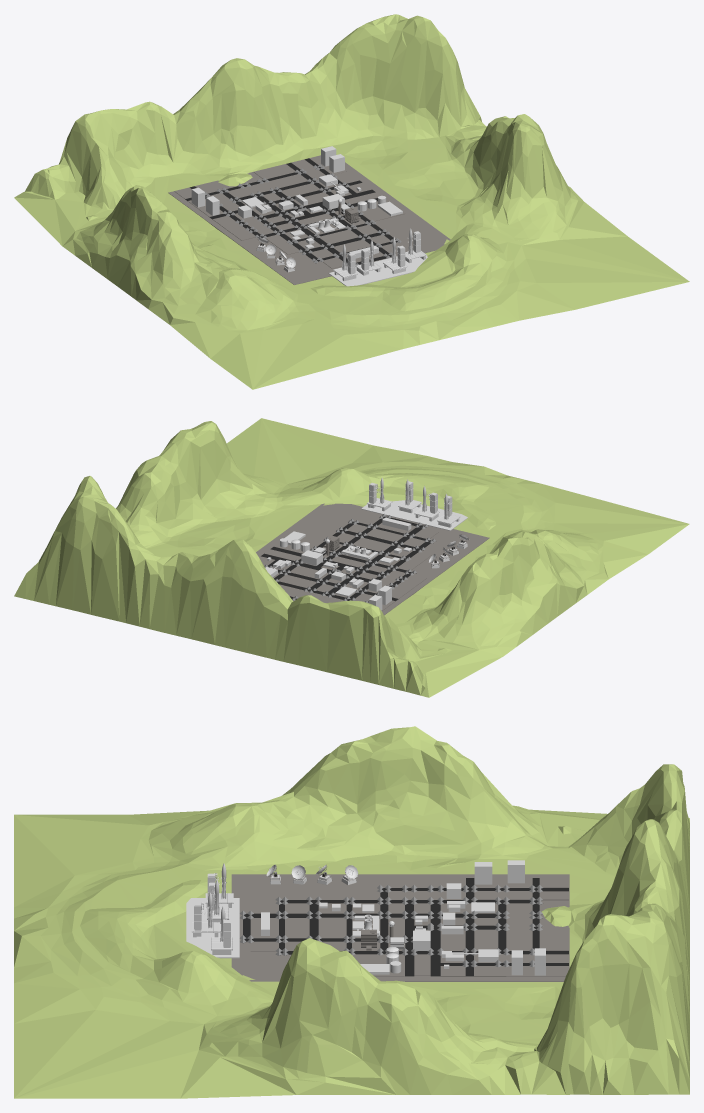
Rendered from City Scene.FBX.
3 renders of one model, top to bottom at view 1: azimuth 30°, elevation 25°; view 2: azimuth 150°, elevation 25°; view 3: azimuth 270°, elevation 25°, orthographic. The views are drawn at different scales.
Parts seen in each view (by area): view 1: World Terrain, CITY BLOCKS, CITY-GROUND, STREETS, LAUNCH COMPLEX; view 2: World Terrain, CITY BLOCKS, CITY-GROUND, STREETS, LAUNCH COMPLEX; view 3: World Terrain, CITY BLOCKS, CITY-GROUND, STREETS, LAUNCH COMPLEX.
Part boxes in pixels (bbox=[...]): World Terrain: bbox=[14, 14, 689, 389]; CITY BLOCKS: bbox=[174, 155, 404, 268]; CITY-GROUND: bbox=[168, 162, 450, 284]; STREETS: bbox=[185, 158, 397, 264]; LAUNCH COMPLEX: bbox=[328, 256, 427, 286]; World Terrain: bbox=[14, 418, 689, 697]; CITY BLOCKS: bbox=[259, 514, 438, 610]; CITY-GROUND: bbox=[256, 503, 489, 615]; STREETS: bbox=[261, 516, 430, 602]; LAUNCH COMPLEX: bbox=[361, 500, 467, 530]; World Terrain: bbox=[14, 726, 689, 1098]; CITY BLOCKS: bbox=[250, 878, 568, 976]; CITY-GROUND: bbox=[231, 874, 569, 981]; STREETS: bbox=[243, 878, 568, 976]; LAUNCH COMPLEX: bbox=[186, 898, 239, 958].
Bounding box in the file's own units: 10 × 2.53 × 10.
